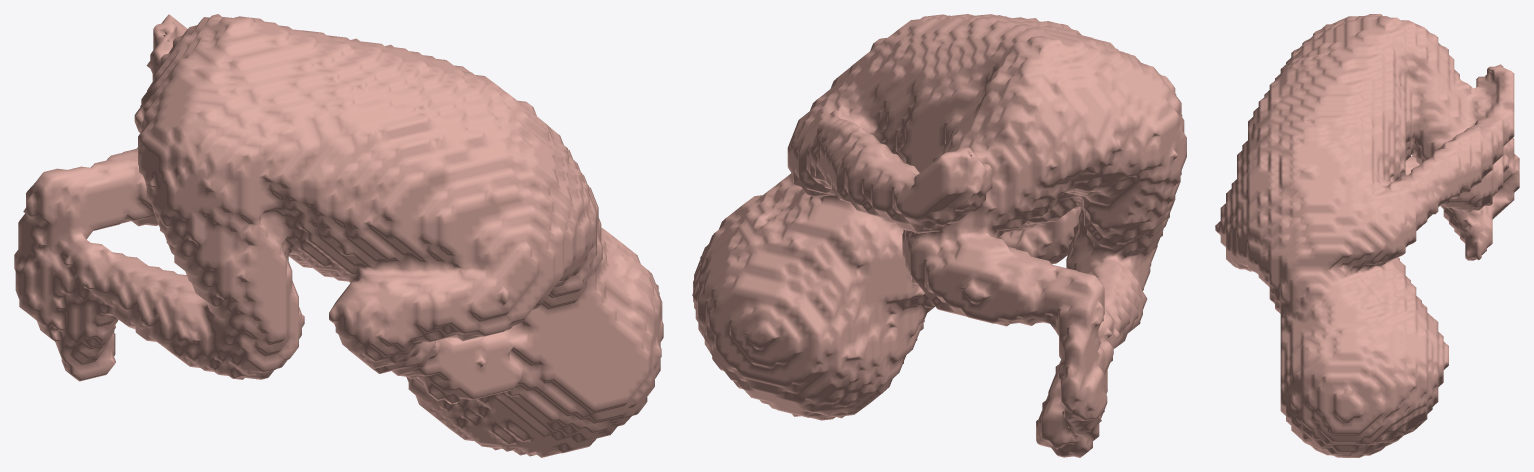
File: fetus-mri.glb
3 renders of one model, left to right at view 1: azimuth 30°, elevation 25°; view 2: azimuth 150°, elevation 25°; view 3: azimuth 270°, elevation 25°, orthographic. The views are drawn at different scales.
Visible parts, largest first — view 1: MRI-derived fetal body surface; view 2: MRI-derived fetal body surface; view 3: MRI-derived fetal body surface.
Part boxes in pixels (left/top/right/bottom): MRI-derived fetal body surface: left=14, top=14, right=663, bottom=457; MRI-derived fetal body surface: left=692, top=14, right=1186, bottom=457; MRI-derived fetal body surface: left=1215, top=14, right=1519, bottom=457.
Size of the model in its own units: 0.312 by 0.272 by 0.224.
